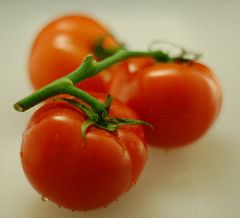tomato: (18, 95, 143, 207), (113, 52, 225, 147), (24, 15, 115, 95)
